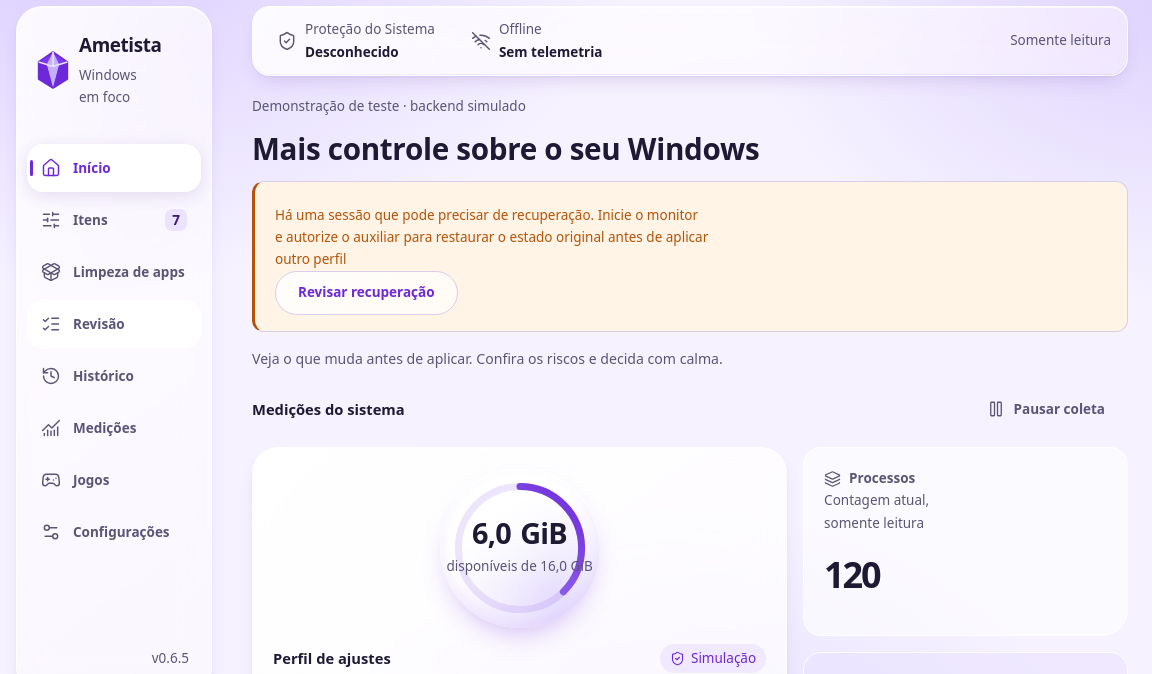
Test: startup offers recovery without starting monitor or requesting elevation automatically
Step 1. Click the button "Revisar recuperação" → (366, 293), box [275,271,458,315]
(page scrolled)
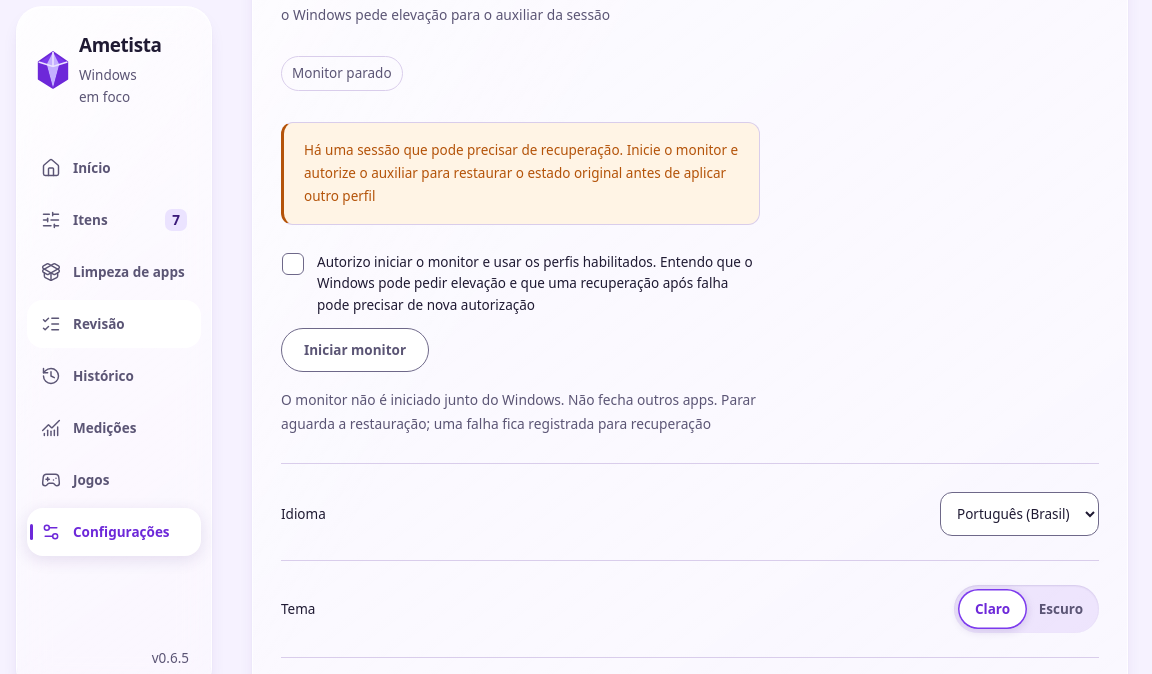
Now the button "Iniciar monitor" is disabled, box [281,328,429,372]
